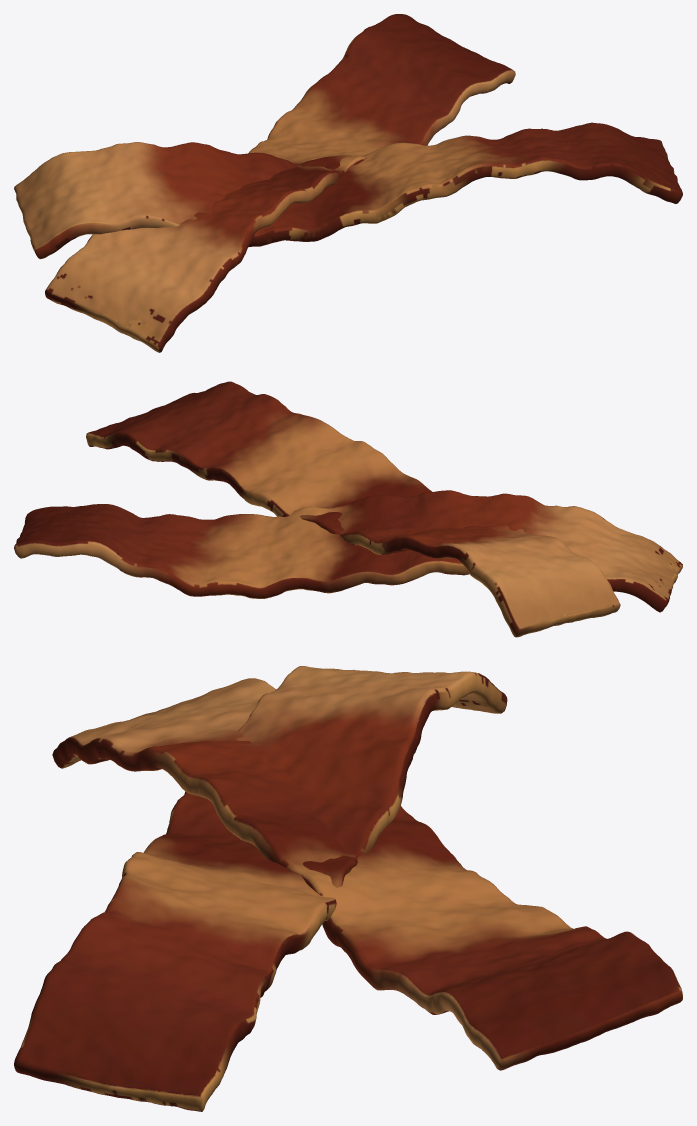
Rendered from bacon_strips.glb.
3 renders of one model, top to bottom at view 1: azimuth 30°, elevation 25°; view 2: azimuth 150°, elevation 25°; view 3: azimuth 270°, elevation 25°, orthographic. The views are drawn at different scales.
Parts seen in each view (by area): view 1: bacon_strips_web; view 2: bacon_strips_web; view 3: bacon_strips_web.
Boxes of the visible parts, x1,y1,x2,y2 form: bacon_strips_web: (14,14,682,352); bacon_strips_web: (14,381,682,637); bacon_strips_web: (14,666,682,1111).
Bounding box in the file's own units: 0.1337 × 0.0203 × 0.0878.
1 material, 1 textured.
